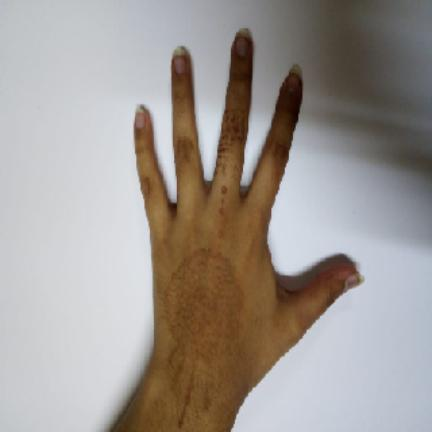Nail: (286, 64, 302, 94), (235, 28, 251, 57), (173, 45, 188, 74), (343, 274, 359, 292), (134, 104, 145, 128)
